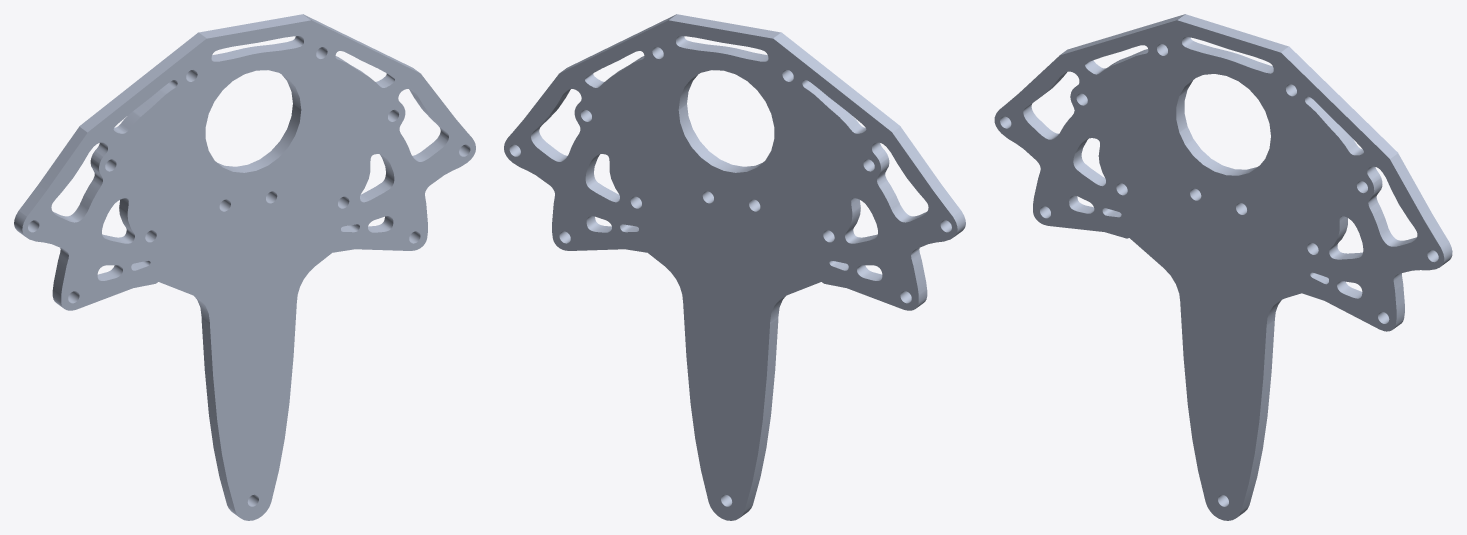
File: Rocker_Connection_Plate_W_LEVER_ARM_2_0_2.dae
The picture shows the model from 3 angles, left to right: view 1: azimuth 30°, elevation 25°; view 2: azimuth 150°, elevation 25°; view 3: azimuth 330°, elevation 25°; orthographic projection.
Parts seen in each view (by area): view 1: node0; view 2: node0; view 3: node0.
Boxes of the visible parts, bbox=[...] form: node0: bbox=[14, 14, 475, 520]; node0: bbox=[504, 14, 965, 520]; node0: bbox=[994, 14, 1452, 520].
Size of the model in its own units: 0.1987 by 0.2065 by 0.00635.
